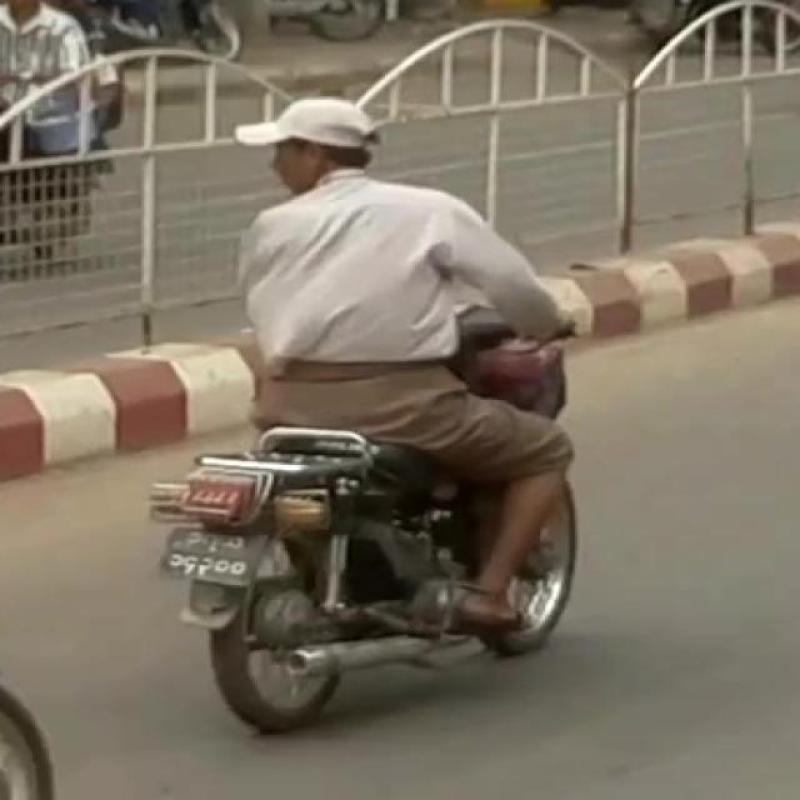nohelmet: (243, 94, 406, 254)
